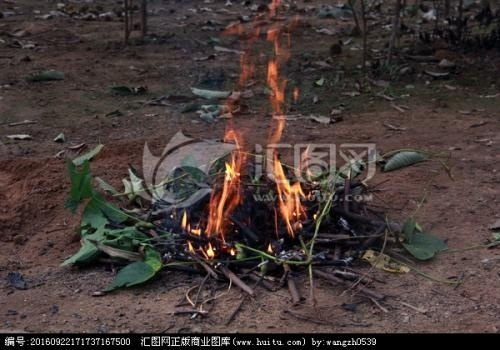fire: (192, 17, 320, 249)
